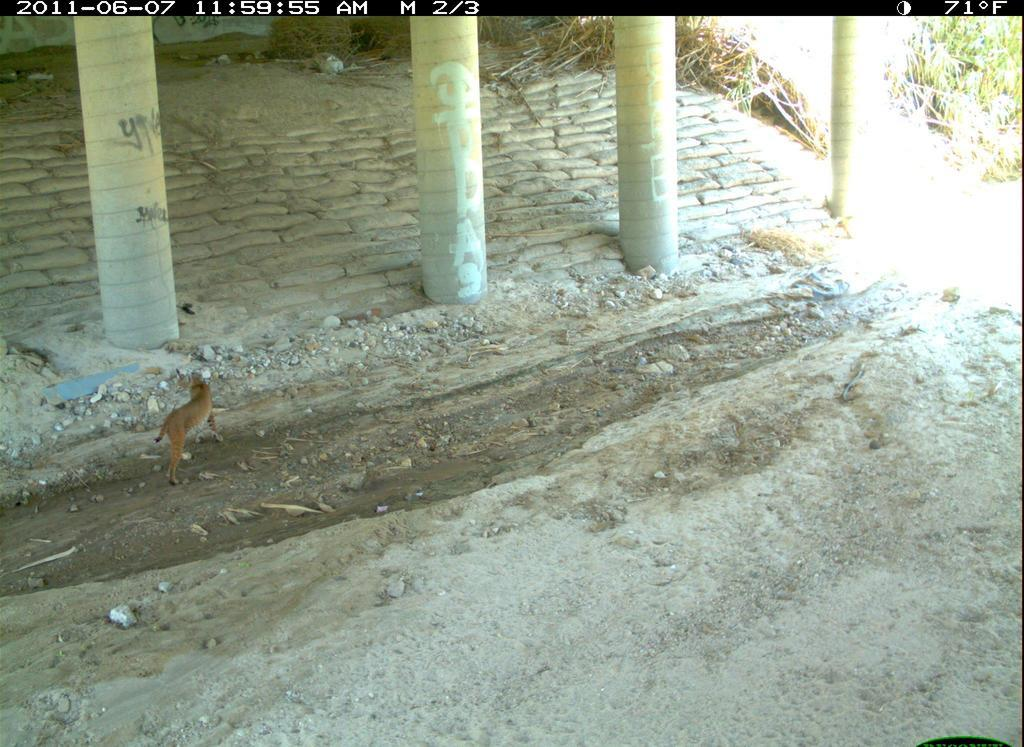bobcat: (296, 743, 461, 747)
